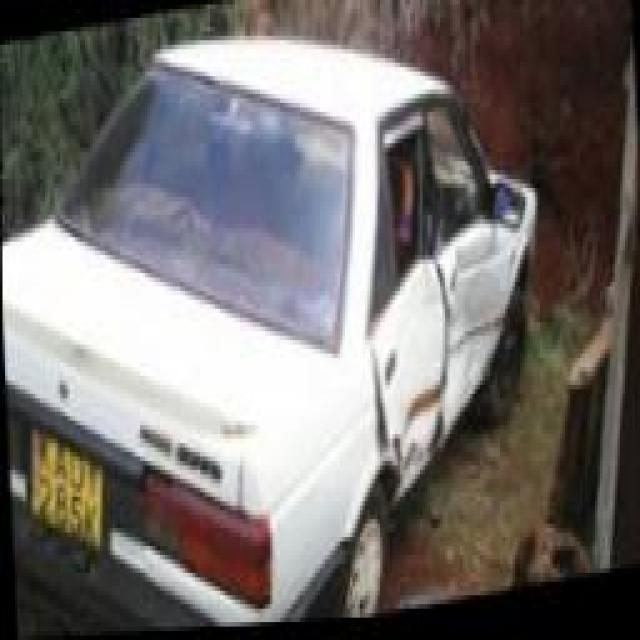Dickey: (202, 389, 266, 522)
Door: (422, 98, 502, 411), (370, 130, 445, 460)
